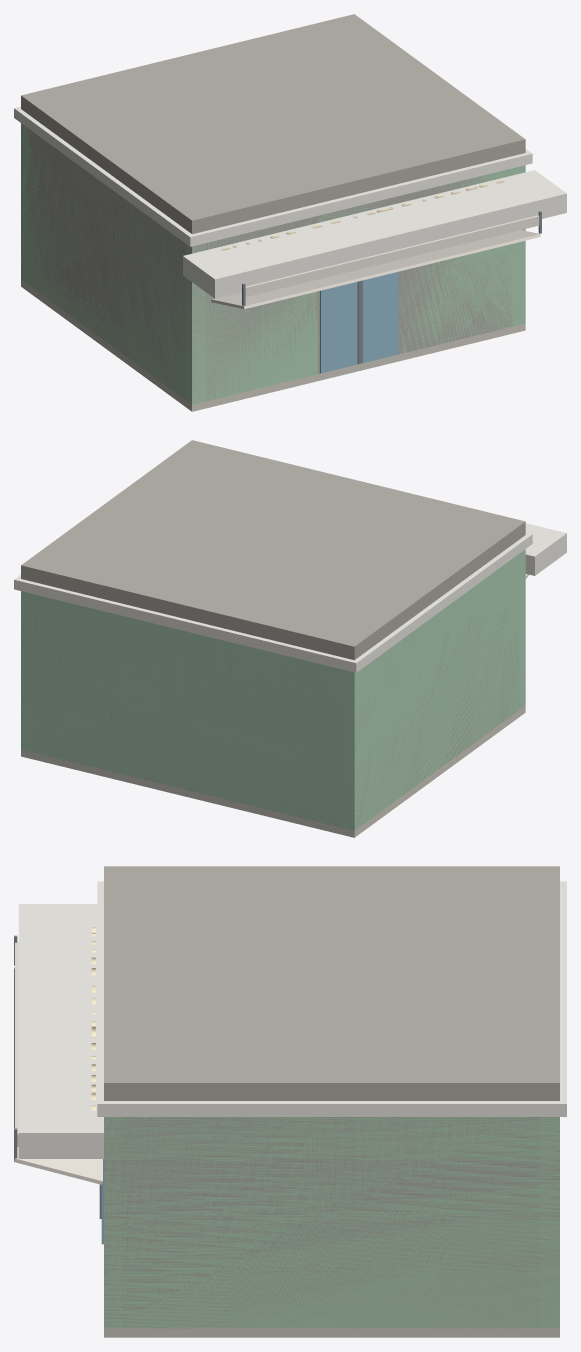
File: BLD_Barber.fbx
3 views of the same model, one above another, from view 1: azimuth 30°, elevation 25°; view 2: azimuth 150°, elevation 25°; view 3: azimuth 270°, elevation 25° (orthographic). The views are drawn at different scales.
Parts seen in each view (by area): view 1: BLD_Barber__BODY, BLD_Barber__COL_Main; view 2: BLD_Barber__BODY, BLD_Barber__COL_Main; view 3: BLD_Barber__BODY, BLD_Barber__COL_Main.
Boxes of the visible parts, box(x1,y1,x2,y2) form: BLD_Barber__BODY: box(14, 14, 566, 411); BLD_Barber__COL_Main: box(21, 96, 525, 403); BLD_Barber__BODY: box(14, 440, 566, 837); BLD_Barber__COL_Main: box(21, 524, 525, 829); BLD_Barber__BODY: box(14, 866, 566, 1337); BLD_Barber__COL_Main: box(104, 1083, 559, 1328).
Bounding box in the file's own units: 9.5 × 4.93 × 9.7.
